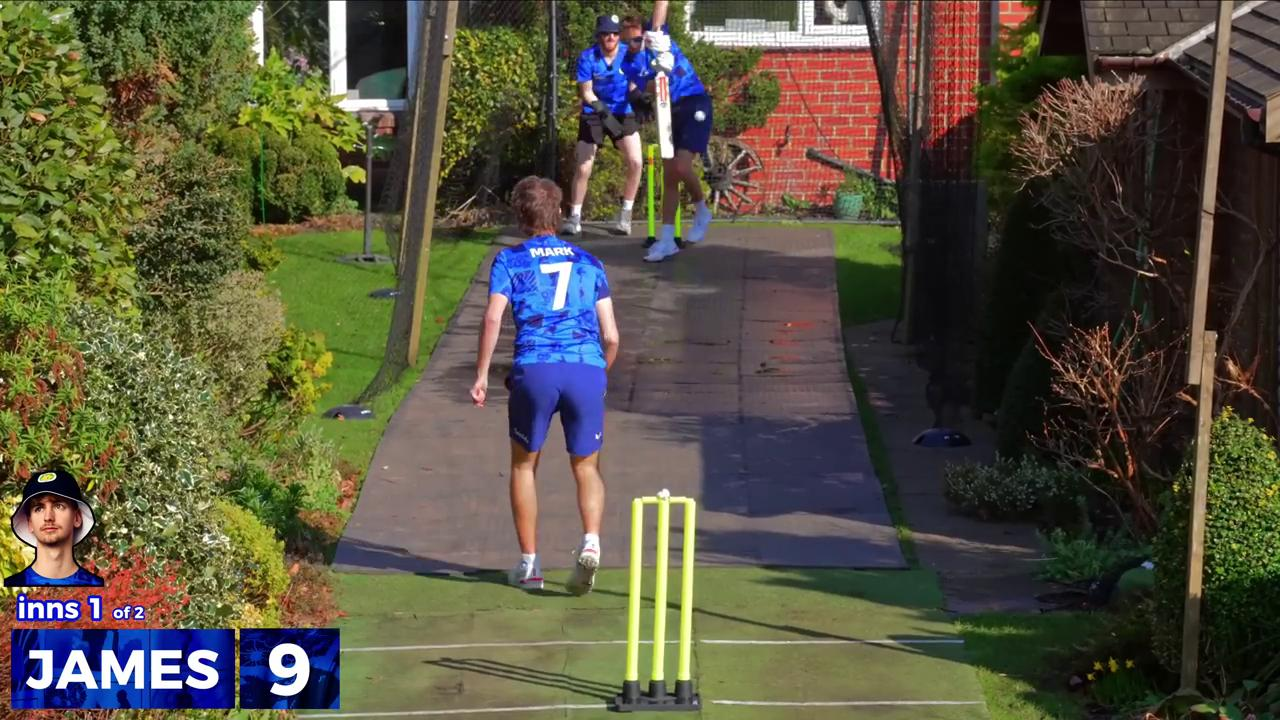ball: (689, 103, 717, 130)
